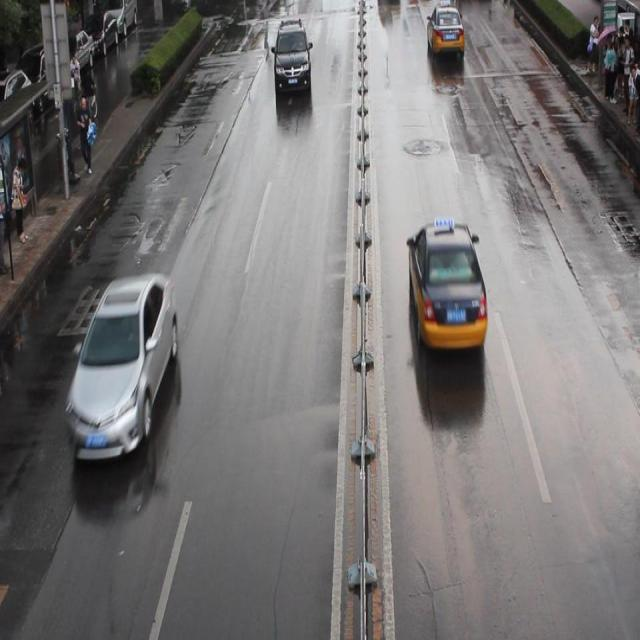car: (66, 270, 178, 464), (408, 219, 486, 349), (274, 19, 310, 95), (425, 1, 464, 57)
